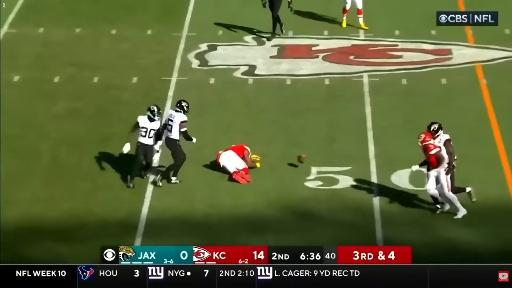Helmet: (427, 122, 442, 138), (418, 132, 433, 146), (147, 105, 161, 120), (176, 100, 189, 114)
Jersey: (419, 132, 441, 167), (137, 116, 160, 145), (166, 110, 187, 140), (422, 143, 447, 167), (218, 145, 251, 162), (435, 132, 450, 147)
Player: (418, 132, 467, 218), (427, 122, 475, 201), (155, 100, 195, 186), (127, 105, 161, 187), (217, 144, 260, 183), (342, 0, 368, 29)
